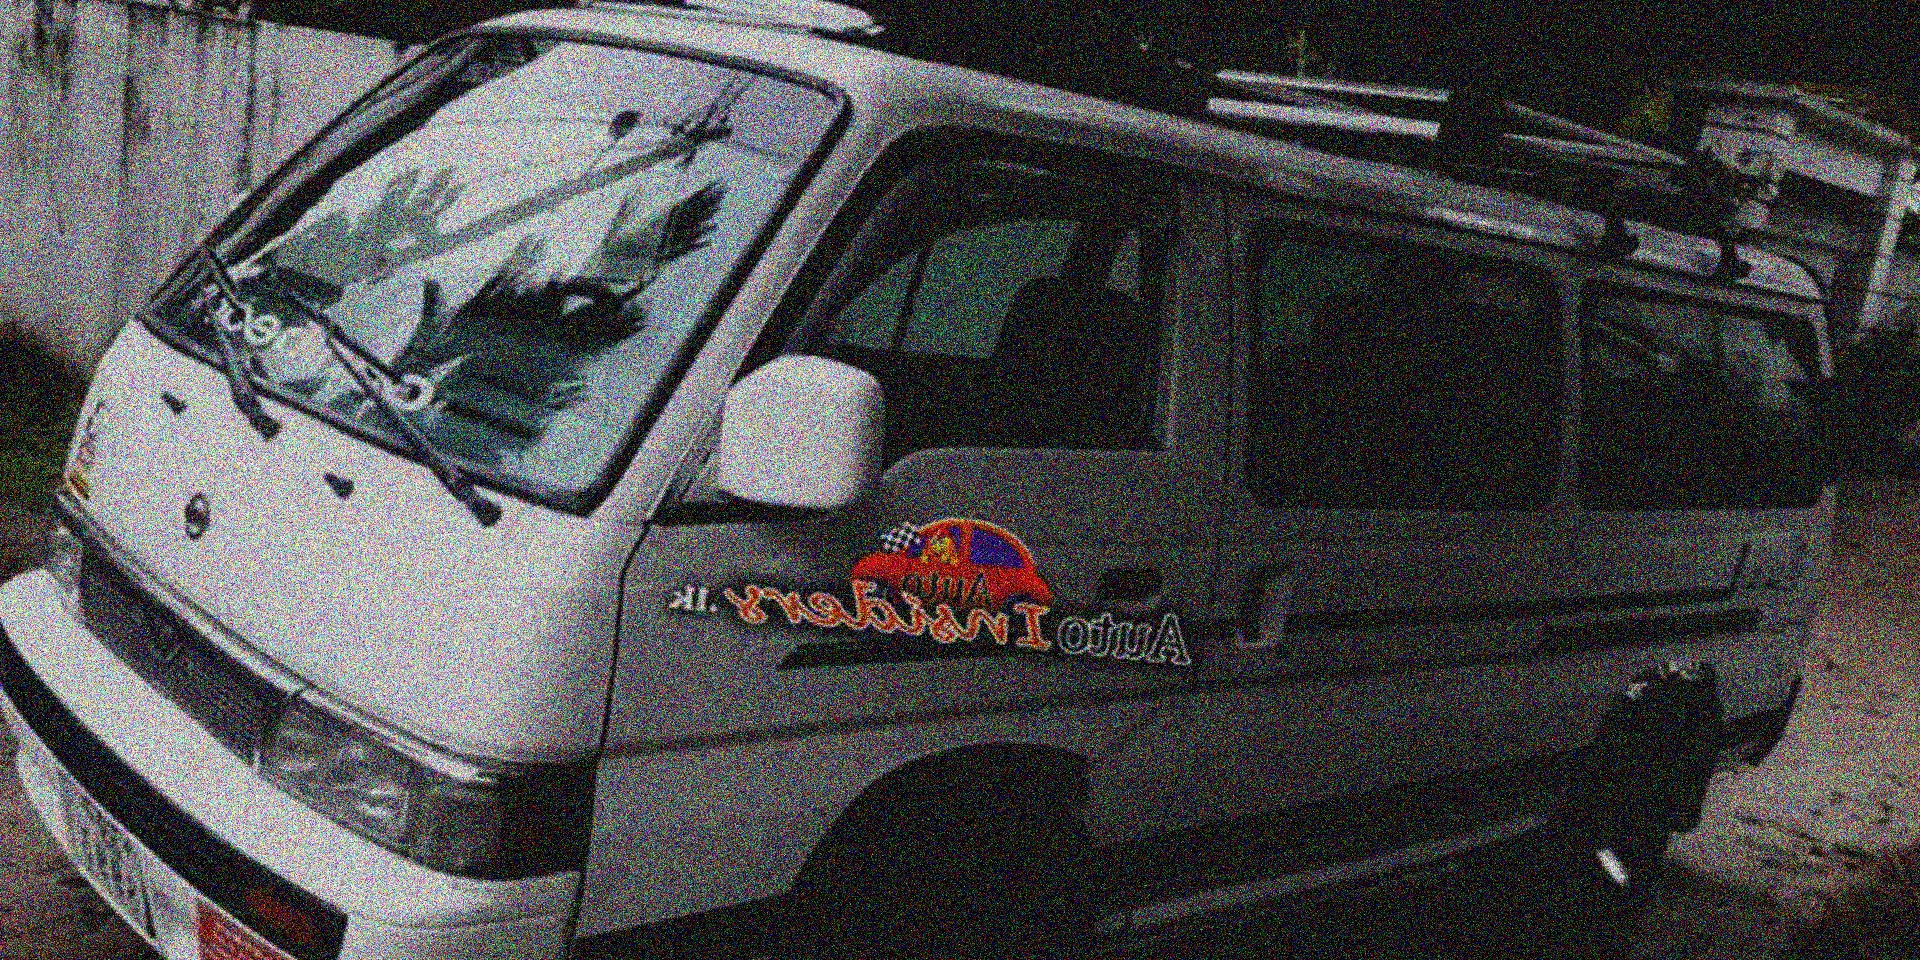van: (0, 0, 1891, 960)
